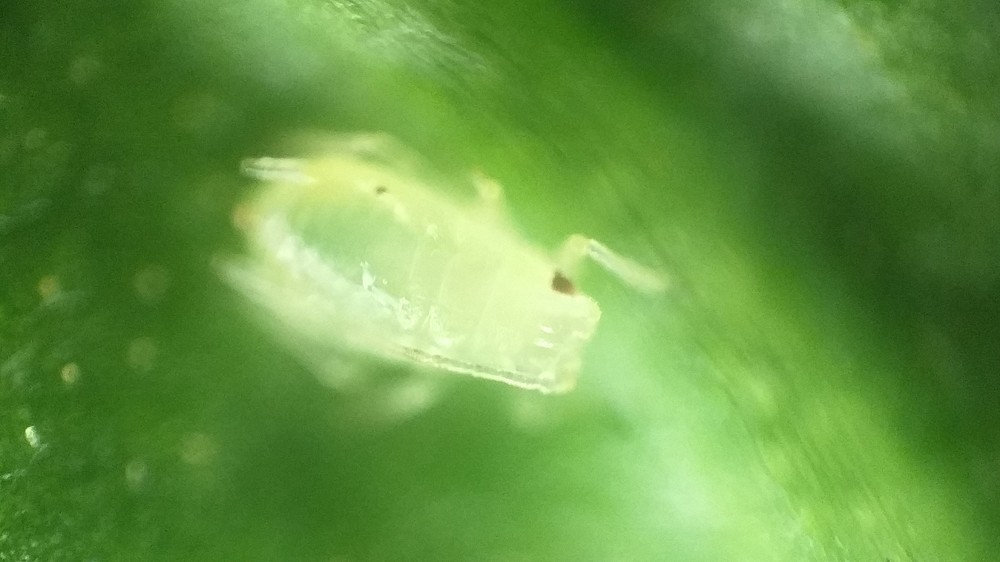Pulgon: (190, 116, 681, 462)
